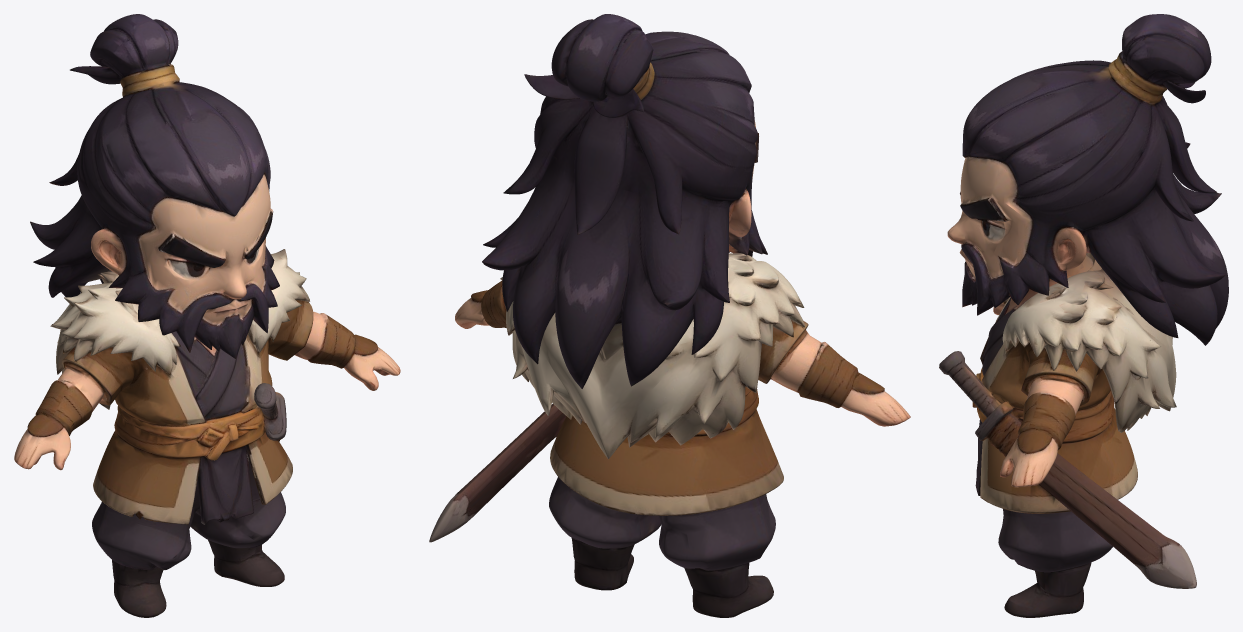
The model's file is Meshy_AI_tripo_convert_monter1_20261122_texture_mixamo_173657.fbx.
The picture shows the model from 3 angles, left to right: view 1: azimuth 30°, elevation 25°; view 2: azimuth 150°, elevation 25°; view 3: azimuth 270°, elevation 25°; orthographic projection. The views are drawn at different scales.
Visible parts, largest first — view 1: tripo_node_325368b5-a1fc-4b67-a880-058a38d2e06c; view 2: tripo_node_325368b5-a1fc-4b67-a880-058a38d2e06c; view 3: tripo_node_325368b5-a1fc-4b67-a880-058a38d2e06c.
Boxes of the visible parts, x1=… form: tripo_node_325368b5-a1fc-4b67-a880-058a38d2e06c: x1=14, y1=14, x2=400, y2=617; tripo_node_325368b5-a1fc-4b67-a880-058a38d2e06c: x1=429, y1=14, x2=910, y2=617; tripo_node_325368b5-a1fc-4b67-a880-058a38d2e06c: x1=939, y1=14, x2=1228, y2=617.
Size of the model in its own units: 1.37 by 1.8 by 0.8424.
1 material, 1 textured.
